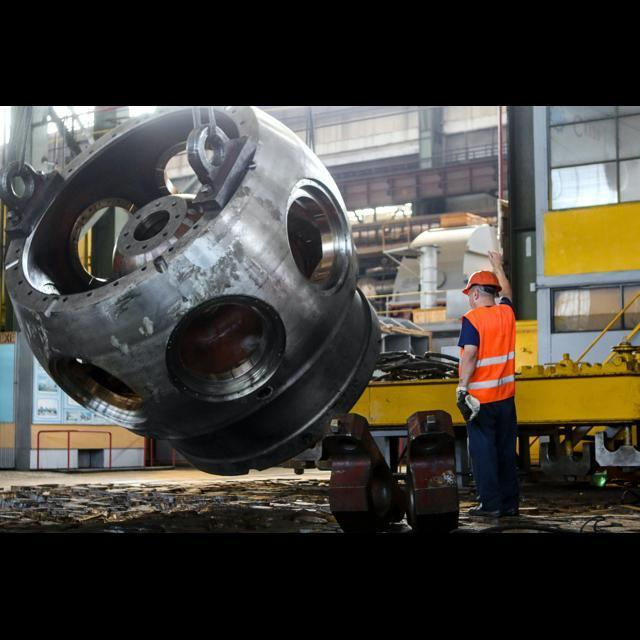Capacete: (462, 270, 500, 294)
Colete: (464, 304, 515, 403)
Pessoa: (456, 252, 518, 516)
